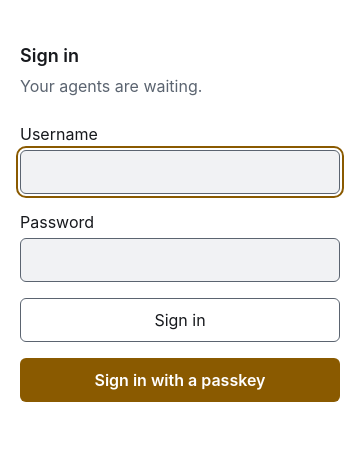
Test case: SignIn › says the passkey failed on 401, never raw JSON
Step 1. Click the button "Sign in with a passkey" → (180, 380), box [20,358,340,402]
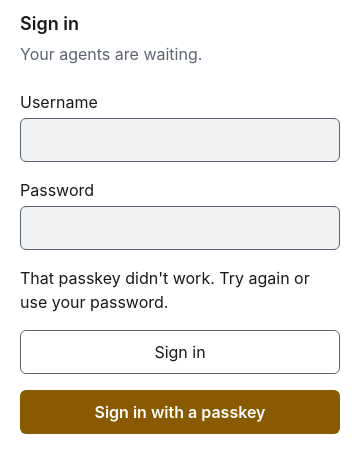
Now the message reads "That passkey didn't work. Try again or use your password.", box [20,268,310,312]
